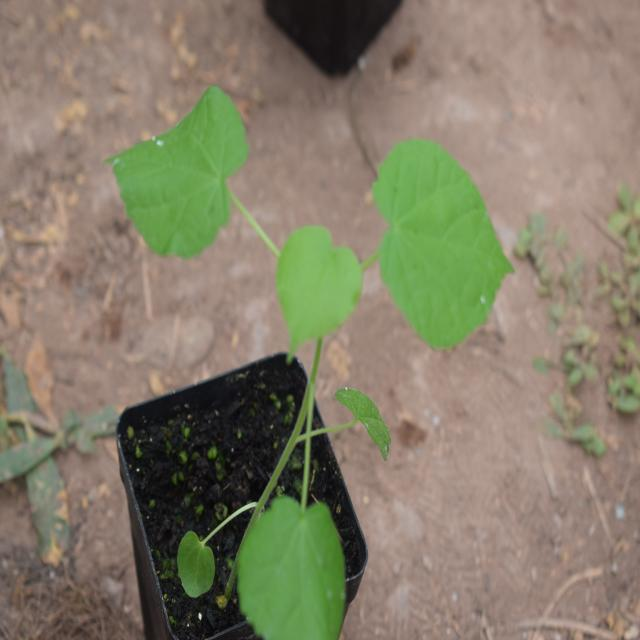abutilon theophrasti: (110, 81, 529, 614)
